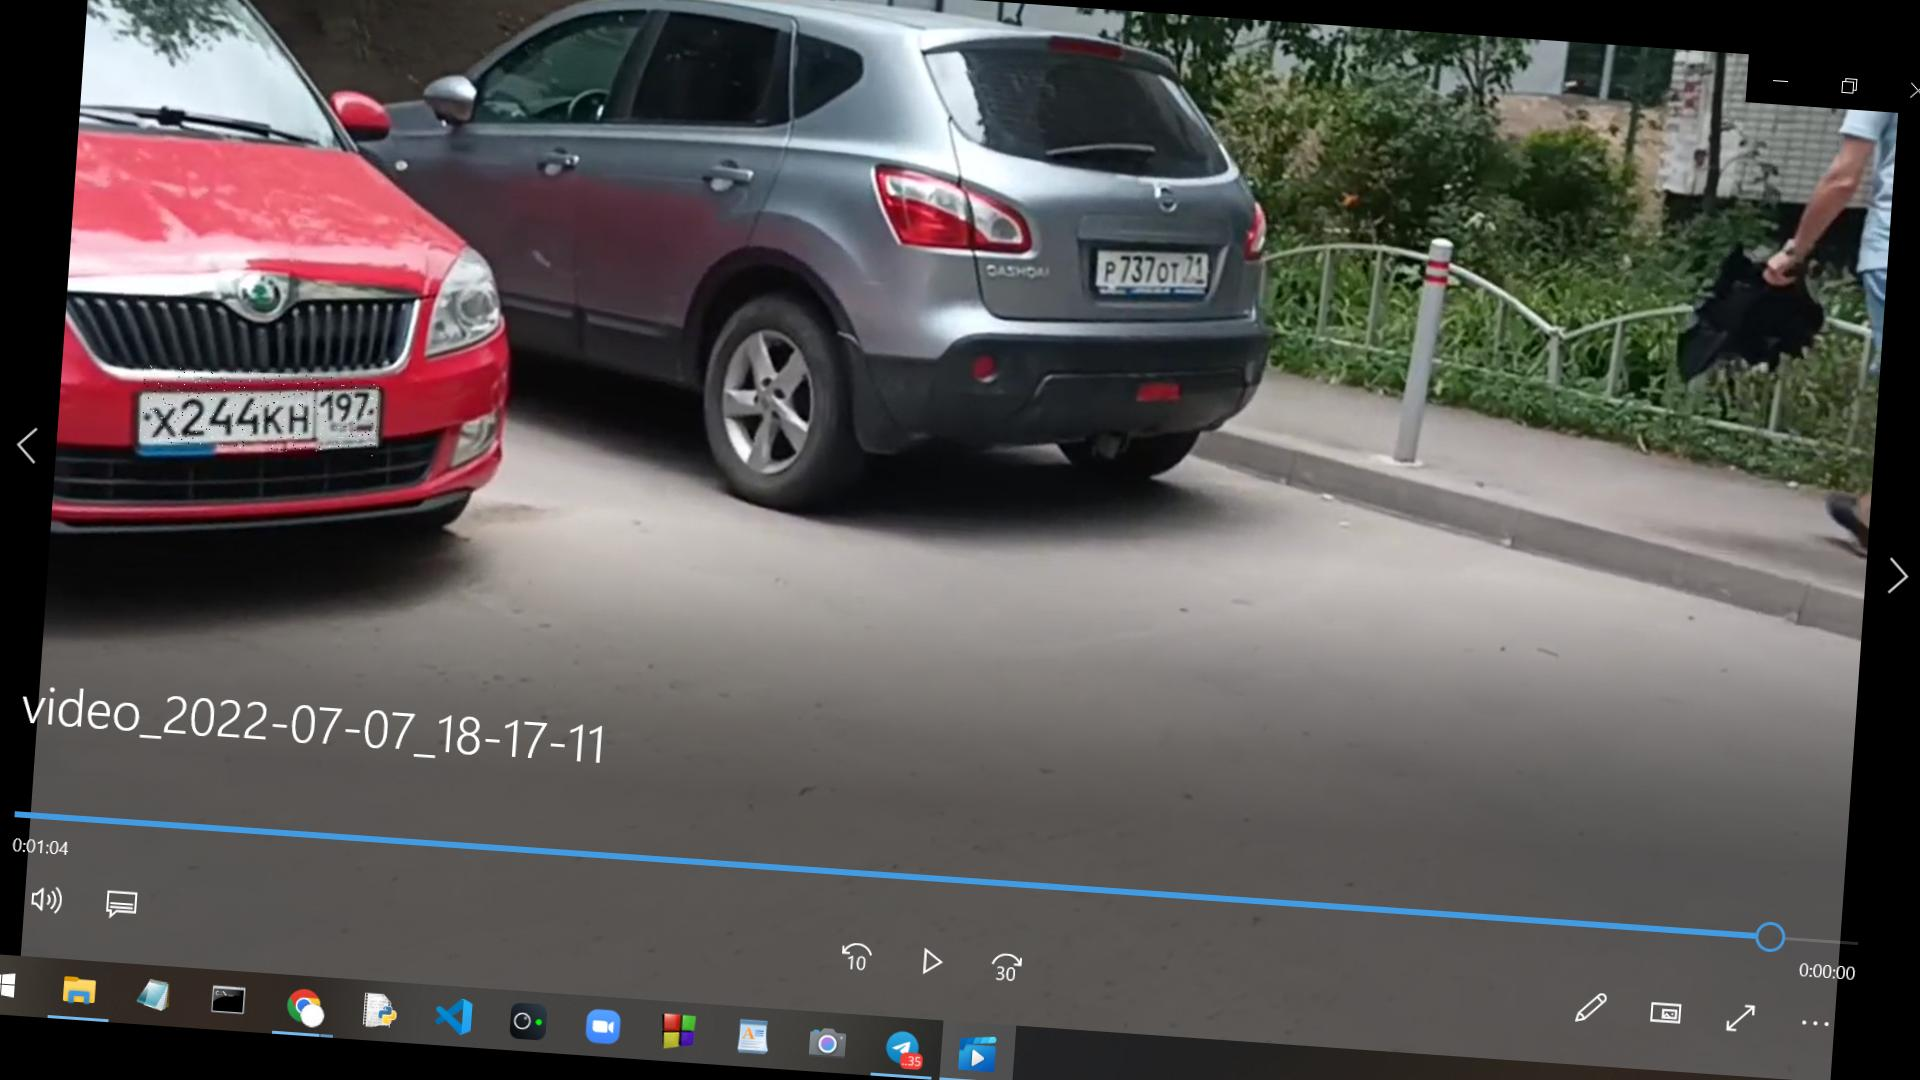plate: (141, 366, 383, 459), (1084, 241, 1218, 300)
